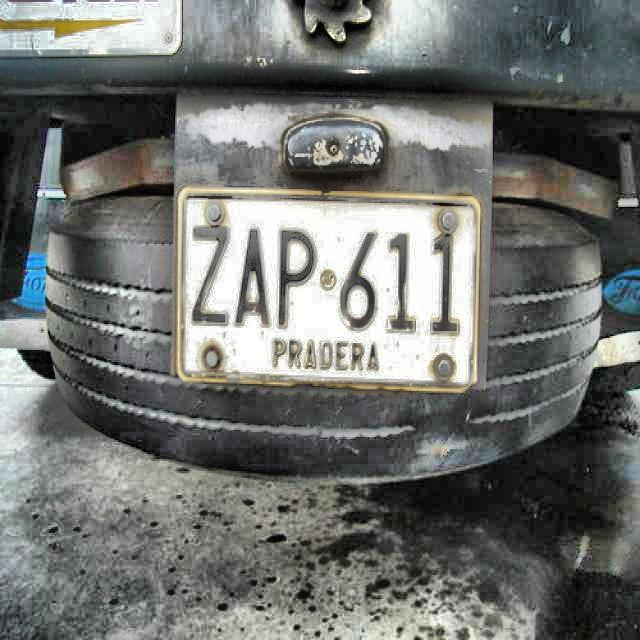plate: (181, 191, 478, 386)
